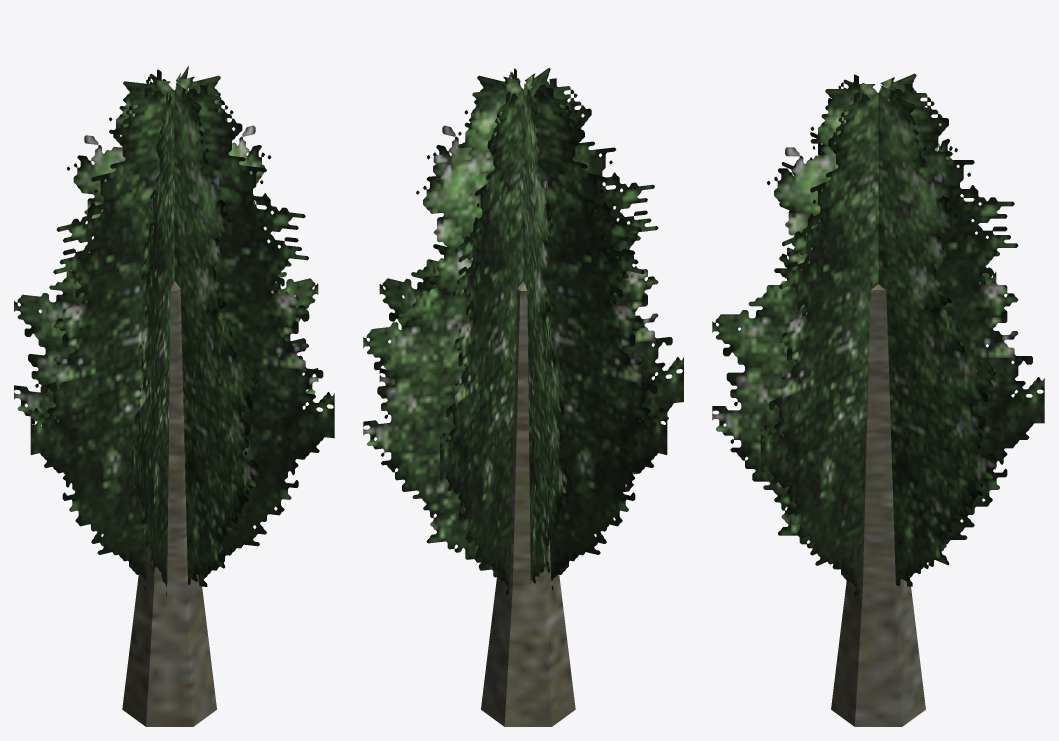
File: tree02.glb
3 views of the same model, side by side, from view 1: azimuth 30°, elevation 25°; view 2: azimuth 150°, elevation 25°; view 3: azimuth 270°, elevation 25° (orthographic).
Visible parts, largest first — view 1: tree02; view 2: tree02; view 3: tree02.
Part boxes in pixels (box(x1,y1,x2,y2)): tree02: box(14, 66, 334, 726); tree02: box(363, 68, 683, 726); tree02: box(712, 73, 1044, 726).
Bounding box in the file's own units: 6 × 12.5 × 6.
1 material, 1 textured.
